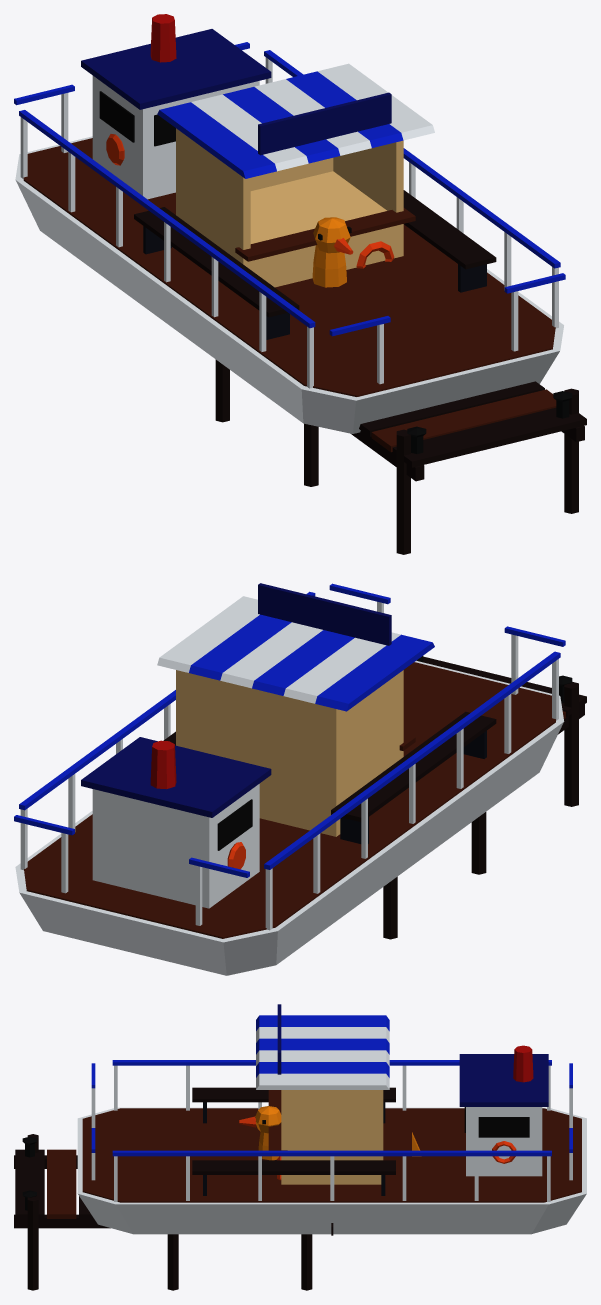
The model's file is river_kit.glb.
3 views of the same model, one above another, from view 1: azimuth 30°, elevation 25°; view 2: azimuth 150°, elevation 25°; view 3: azimuth 270°, elevation 25° (orthographic). The views are drawn at different scales.
Visible parts, largest first — view 1: SM_RV_Ferry, SM_RV_Kiosk, SM_RV_Pier, SM_RV_DuckBoat; view 2: SM_RV_Ferry, SM_RV_Kiosk, SM_RV_Pier; view 3: SM_RV_Ferry, SM_RV_Kiosk, SM_RV_Pier, SM_RV_DuckBoat.
Part boxes in pixels (x1,y1,x2,y2): SM_RV_Ferry: (14,14,565,433); SM_RV_Kiosk: (157,63,434,287); SM_RV_Pier: (215,359,586,554); SM_RV_DuckBoat: (312,217,353,287); SM_RV_Ferry: (14,583,565,975); SM_RV_Kiosk: (157,583,434,836); SM_RV_Pier: (383,656,586,939); SM_RV_Ferry: (77,1045,586,1234); SM_RV_Kiosk: (256,1004,389,1184); SM_RV_Pier: (14,1134,312,1290); SM_RV_DuckBoat: (239,1106,421,1160).
Bounding box in the file's own units: 3.63 × 3.96 × 9.
7 materials, 7 textured.
